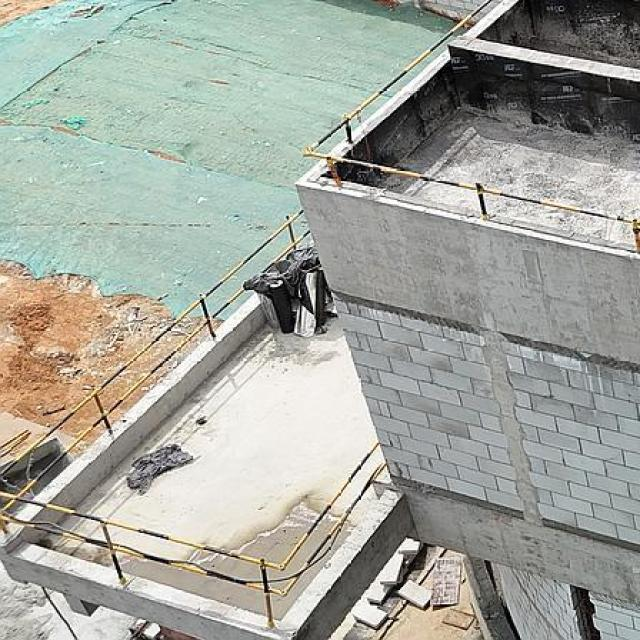edge_guardrail: (0, 208, 313, 516), (300, 0, 640, 254), (6, 438, 394, 628)
